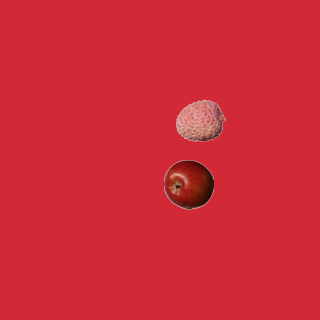Apple Braeburn: (163, 159, 213, 209)
Lychee: (175, 95, 225, 145)
